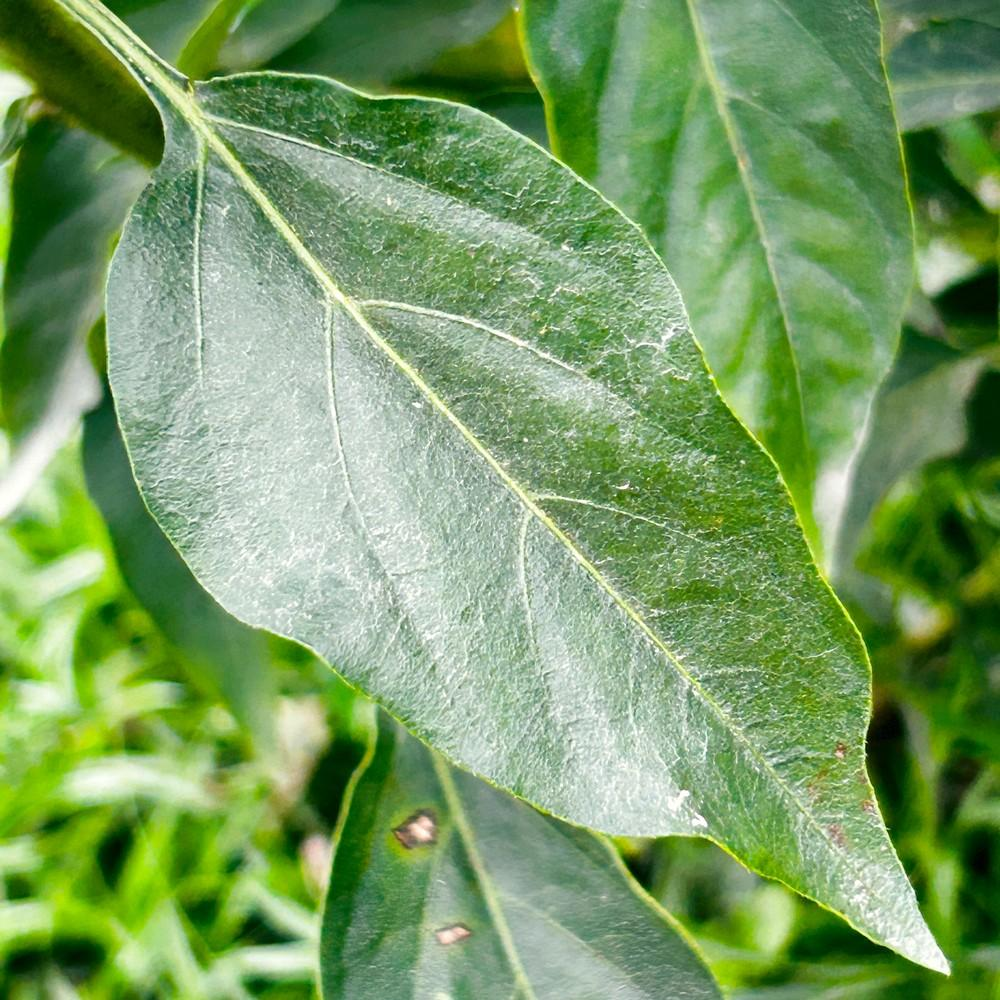Daun Cabai Sehat: (101, 73, 952, 919)
